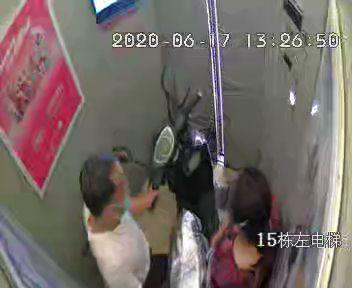Electric-bicycle: (117, 66, 209, 287)
